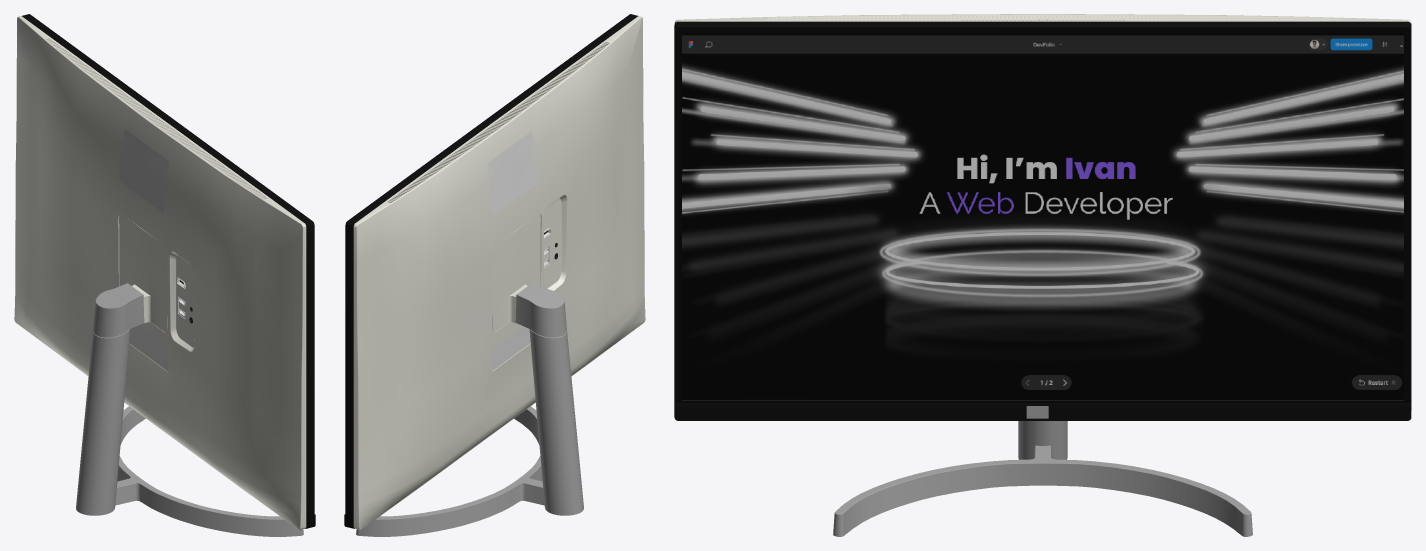
Rendered from Monitor.glb.
3 renders of one model, left to right at view 1: azimuth 30°, elevation 25°; view 2: azimuth 150°, elevation 25°; view 3: azimuth 270°, elevation 25°, orthographic. The views are drawn at different scales.
Parts seen in each view (by area): view 1: Cube.021, Cylinder.006, Cube.017, Cube.023, Plane.010, Plane.007; view 2: Cube.021, Cylinder.006, Cube.017, Cube.023, Plane.010, Plane.007; view 3: Plane.002, Cylinder.006, Cube.020, Cube.017, Cube.021.
Boxes of the visible parts, bbox=[...] form: Cube.021: bbox=[14, 16, 306, 529]; Cylinder.006: bbox=[76, 283, 303, 536]; Cube.017: bbox=[22, 14, 314, 528]; Cube.023: bbox=[119, 214, 167, 332]; Plane.010: bbox=[119, 128, 168, 213]; Plane.007: bbox=[129, 326, 167, 370]; Cube.021: bbox=[353, 16, 645, 529]; Cylinder.006: bbox=[356, 283, 583, 536]; Cube.017: bbox=[345, 14, 637, 528]; Cube.023: bbox=[492, 214, 540, 332]; Plane.010: bbox=[487, 131, 537, 215]; Plane.007: bbox=[492, 326, 530, 370]; Plane.002: bbox=[676, 28, 1409, 403]; Cylinder.006: bbox=[833, 421, 1252, 536]; Cube.020: bbox=[674, 403, 1411, 420]; Cube.017: bbox=[674, 21, 1411, 403]; Cube.021: bbox=[674, 14, 1411, 410].
Size of the model in its own units: 0.2099 by 0.5095 by 0.7112.
19 materials, 1 textured.
